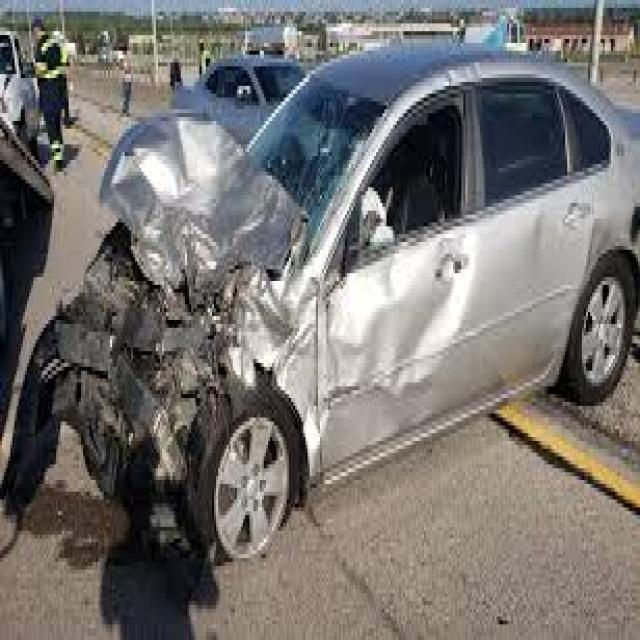accident: (51, 69, 438, 576)
